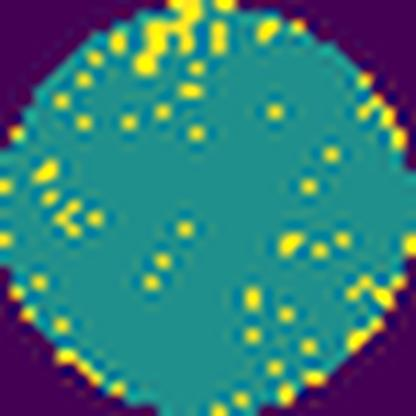Loc: (135, 0, 204, 73)
